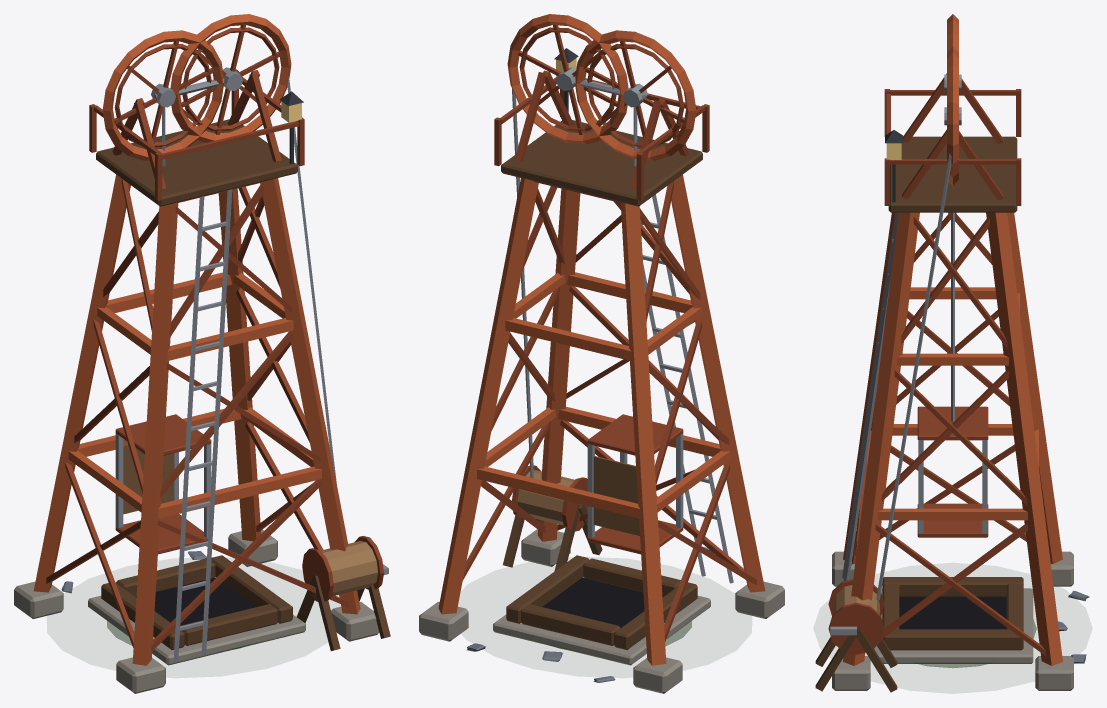
The model's file is headframe.glb.
3 views of the same model, side by side, from view 1: azimuth 30°, elevation 25°; view 2: azimuth 150°, elevation 25°; view 3: azimuth 270°, elevation 25° (orthographic).
Parts seen in each view (by area): view 1: headframe; view 2: headframe; view 3: headframe.
Part boxes in pixels (left/top/right/bottom): headframe: left=14, top=14, right=390, bottom=693; headframe: left=419, top=14, right=784, bottom=693; headframe: left=815, top=14, right=1089, bottom=692.
Bounding box in the file's own units: 2.9 × 6.13 × 2.61.
